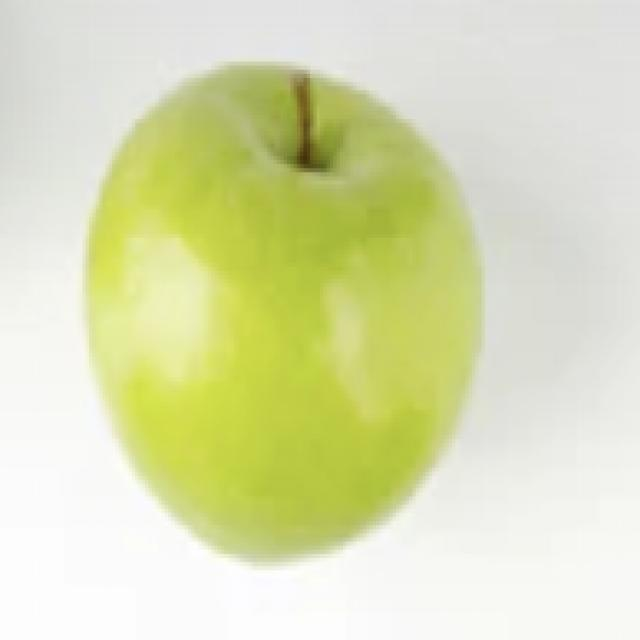Fresh Apple: (90, 68, 480, 557)
